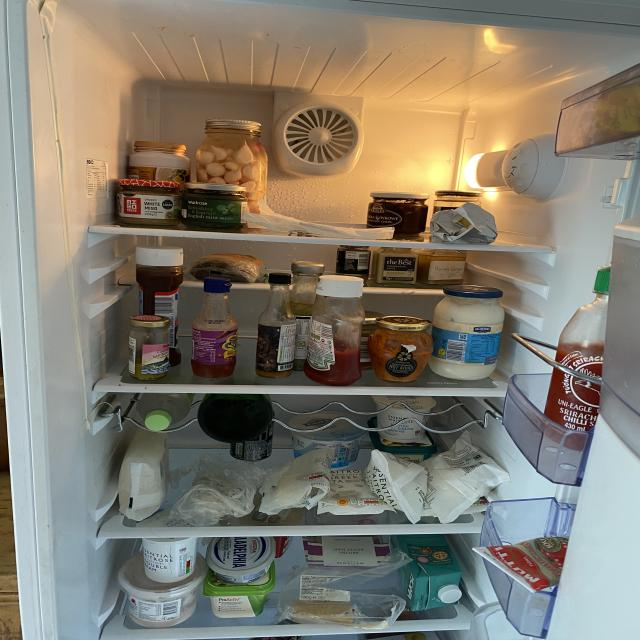Carne cerdo: (308, 532, 388, 569)
Mantequilla: (205, 562, 277, 618), (430, 204, 497, 242)
Queso: (117, 428, 170, 518), (182, 460, 260, 518), (263, 452, 331, 508)
Yogur: (287, 413, 369, 466)
